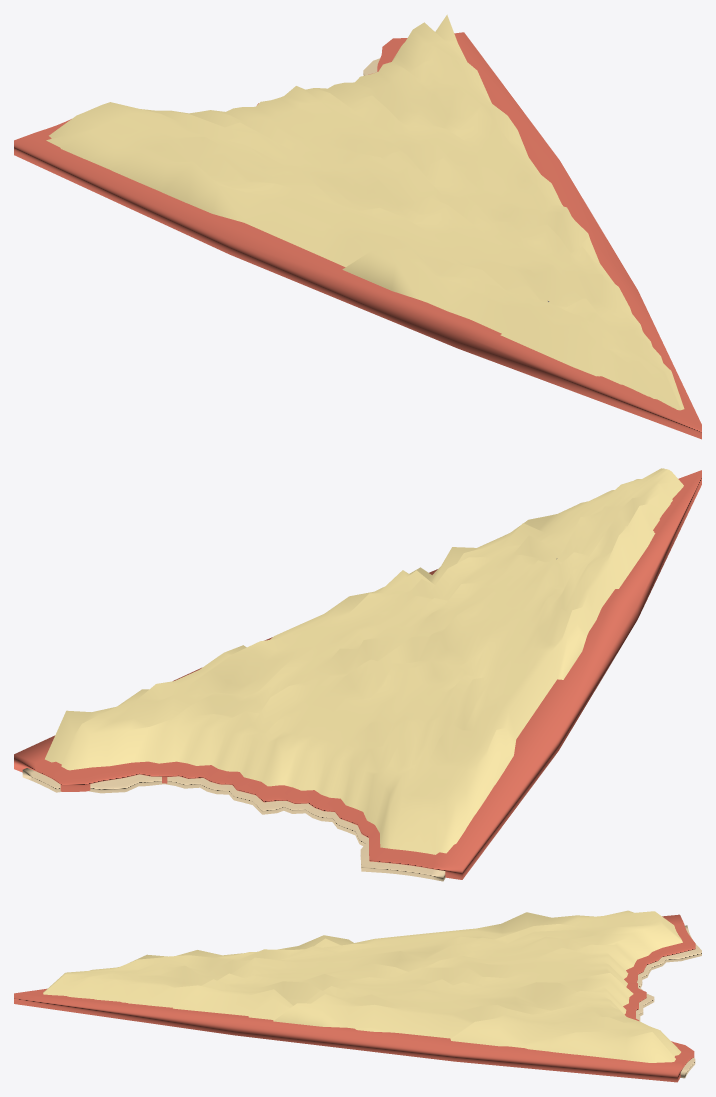
File: EatsaPizzaSlice1.glb
3 renders of one model, top to bottom at view 1: azimuth 30°, elevation 25°; view 2: azimuth 150°, elevation 25°; view 3: azimuth 270°, elevation 25°, orthographic. The views are drawn at different scales.
Parts seen in each view (by area): view 1: Cheese, Sauce; view 2: Cheese, Sauce, Dough; view 3: Cheese, Sauce, Dough.
Part boxes in pixels (x1,y1,x2,y2): Cheese: (46, 14, 684, 410); Sauce: (14, 32, 701, 439); Cheese: (45, 468, 683, 854); Sauce: (14, 470, 701, 879); Dough: (22, 768, 445, 881); Cheese: (43, 910, 682, 1062); Sauce: (14, 914, 695, 1082); Dough: (19, 925, 701, 1078).
Bounding box in the file's own units: 8.61 × 1.01 × 15.92.
